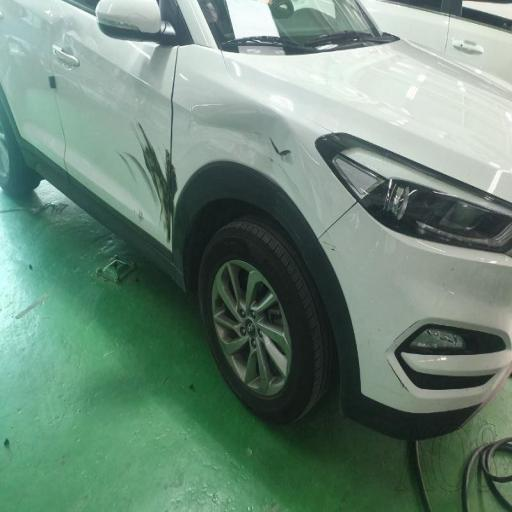dent: (235, 74, 323, 210)
scratch: (112, 117, 206, 247)
